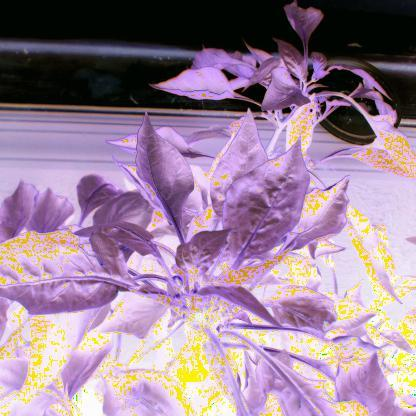Bell_pepper leaf spot: (6, 228, 132, 312), (226, 138, 308, 264), (129, 105, 195, 236), (209, 104, 270, 226), (254, 346, 332, 416), (335, 350, 414, 416), (298, 173, 351, 247), (266, 280, 337, 331), (92, 190, 154, 247), (5, 178, 72, 230), (150, 67, 234, 102), (346, 142, 416, 181), (259, 63, 312, 114), (370, 116, 416, 172), (74, 171, 126, 213), (283, 1, 327, 44)
